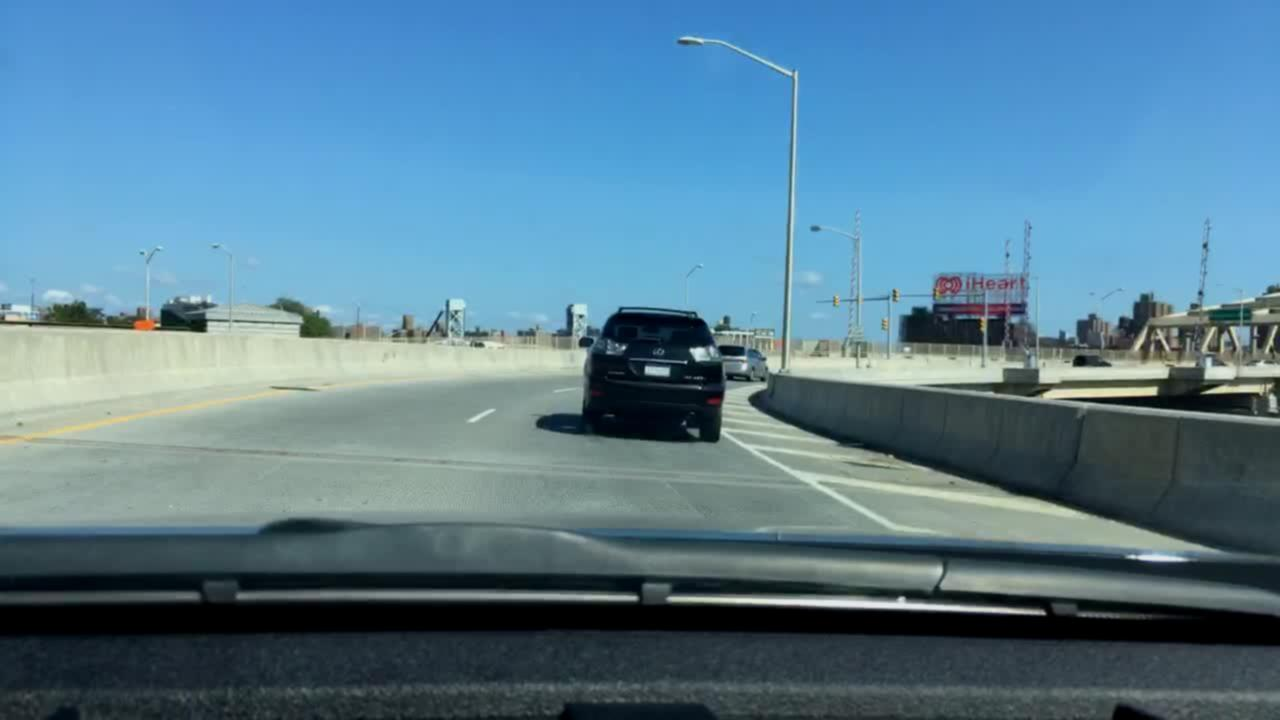lexus: (648, 342, 669, 358)
